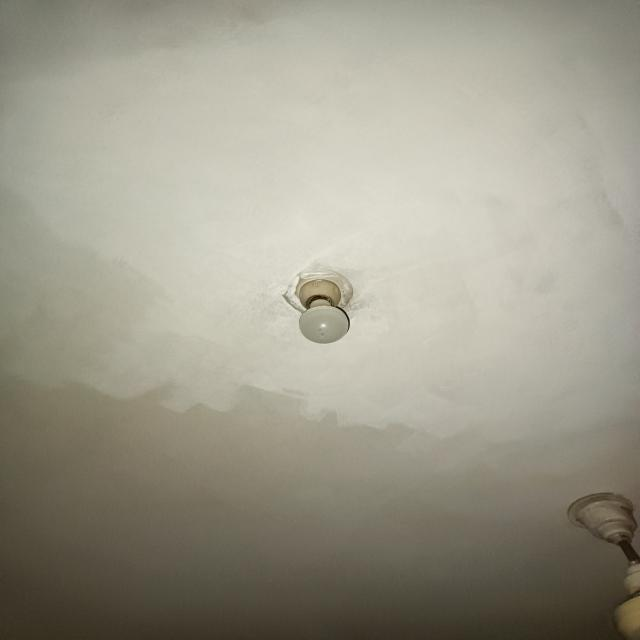bulb_off: (297, 276, 352, 347)
